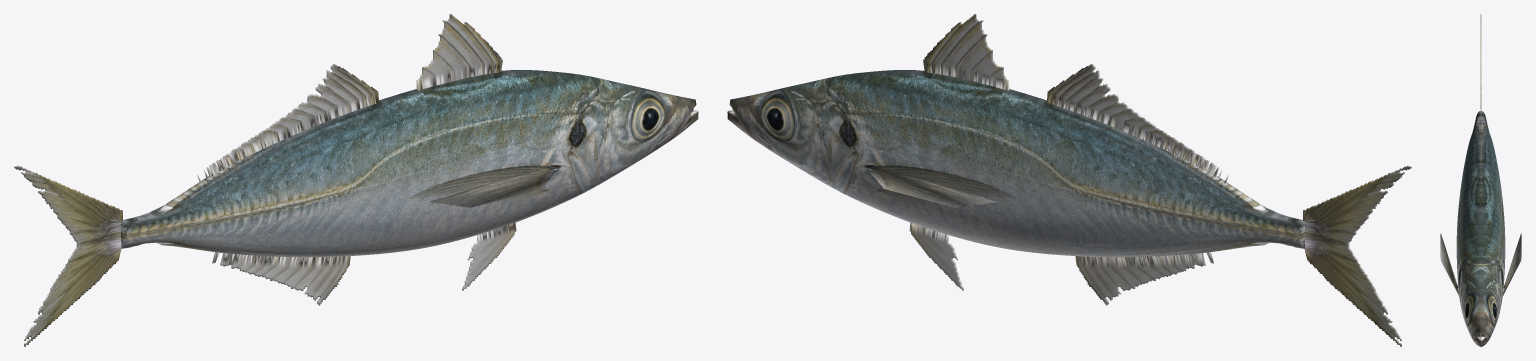
Rendered from cape_horse_mackerel.glb.
3 views of the same model, side by side, from view 1: azimuth 30°, elevation 25°; view 2: azimuth 150°, elevation 25°; view 3: azimuth 270°, elevation 25° (orthographic). The views are drawn at different scales.
Visible parts, largest first — view 1: cape_horse_mackerel_realistic; view 2: cape_horse_mackerel_realistic; view 3: cape_horse_mackerel_realistic.
Boxes of the visible parts, bbox=[...] form: cape_horse_mackerel_realistic: bbox=[14, 14, 698, 346]; cape_horse_mackerel_realistic: bbox=[727, 14, 1411, 346]; cape_horse_mackerel_realistic: bbox=[1440, 14, 1521, 346].
Bounding box in the file's own units: 1 × 0.3902 × 0.1405.
3 materials, 3 textured.
